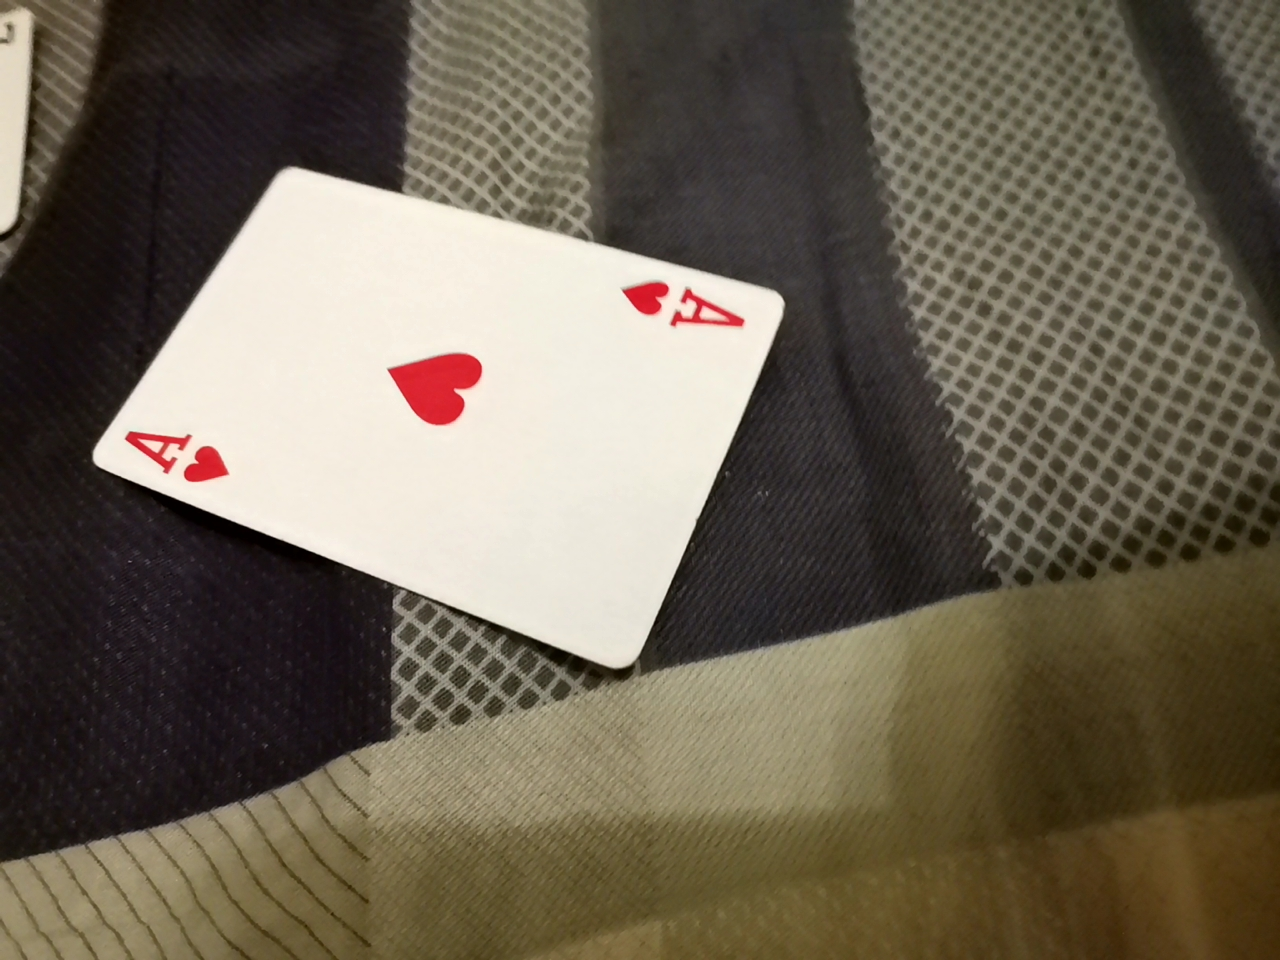hx a: (85, 193, 827, 705)
